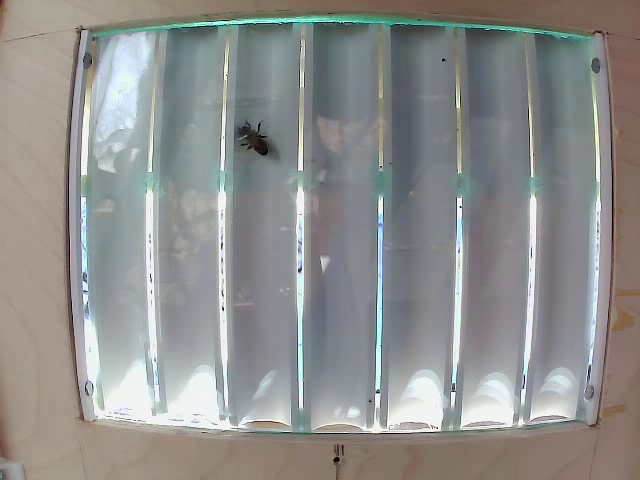bee: (233, 114, 277, 173)
